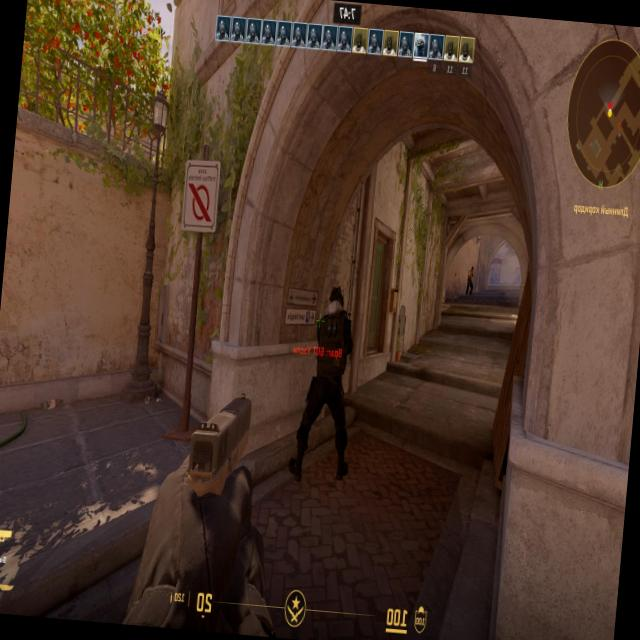CT: (291, 288, 350, 490)
CT_heat: (328, 290, 342, 312)
T: (466, 266, 474, 292)
T_heat: (470, 267, 472, 272)
